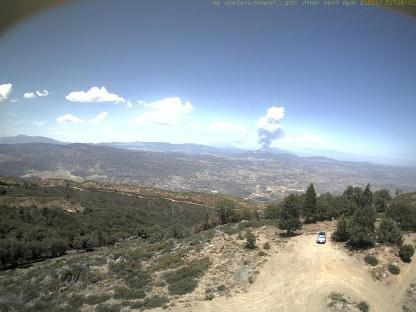smoke: (254, 105, 288, 156)
